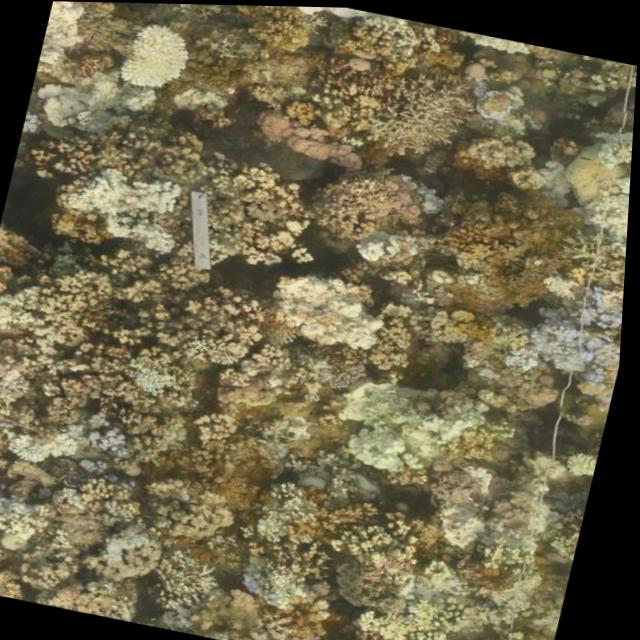Bleached Coral: (337, 371, 473, 488), (516, 263, 628, 397), (269, 261, 396, 358), (70, 159, 190, 257), (566, 118, 635, 261), (43, 65, 151, 148), (114, 8, 198, 101), (0, 412, 106, 475), (0, 268, 42, 418), (251, 469, 317, 558), (0, 473, 62, 550), (239, 561, 322, 618), (348, 217, 430, 272), (103, 512, 164, 580), (128, 353, 202, 408)
